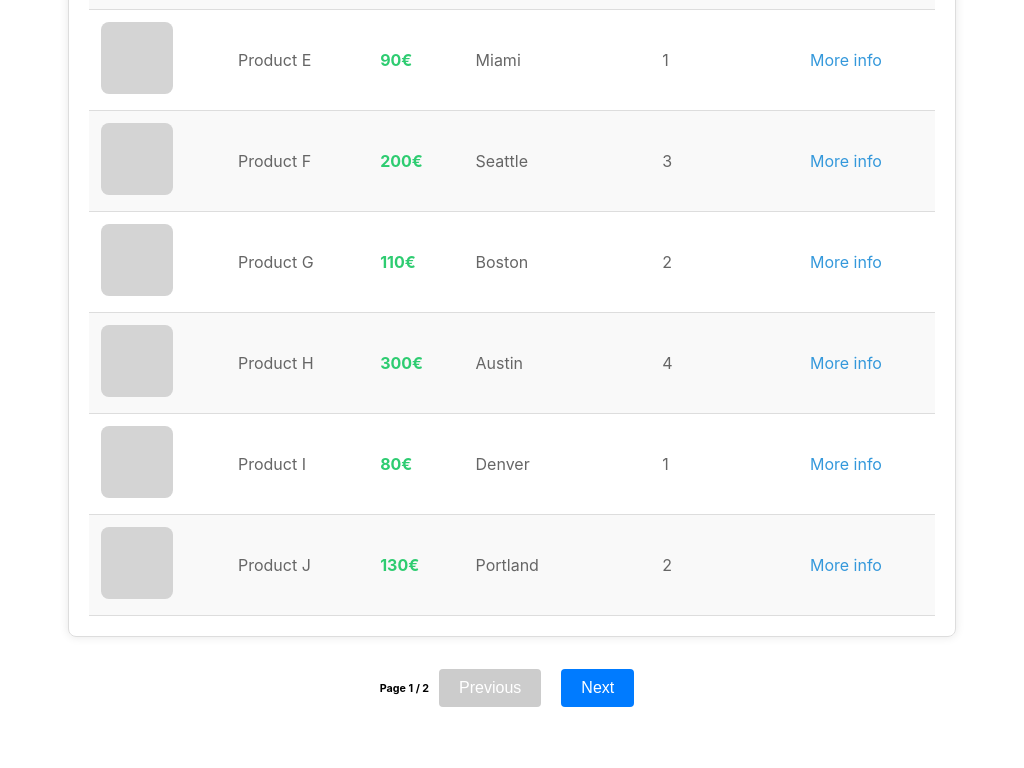
it: ProductsList component › allows pagination correctly
(page scrolled)
Click the button "Next" at coordinates (598, 688), box [561, 670, 634, 708]
(page scrolled)
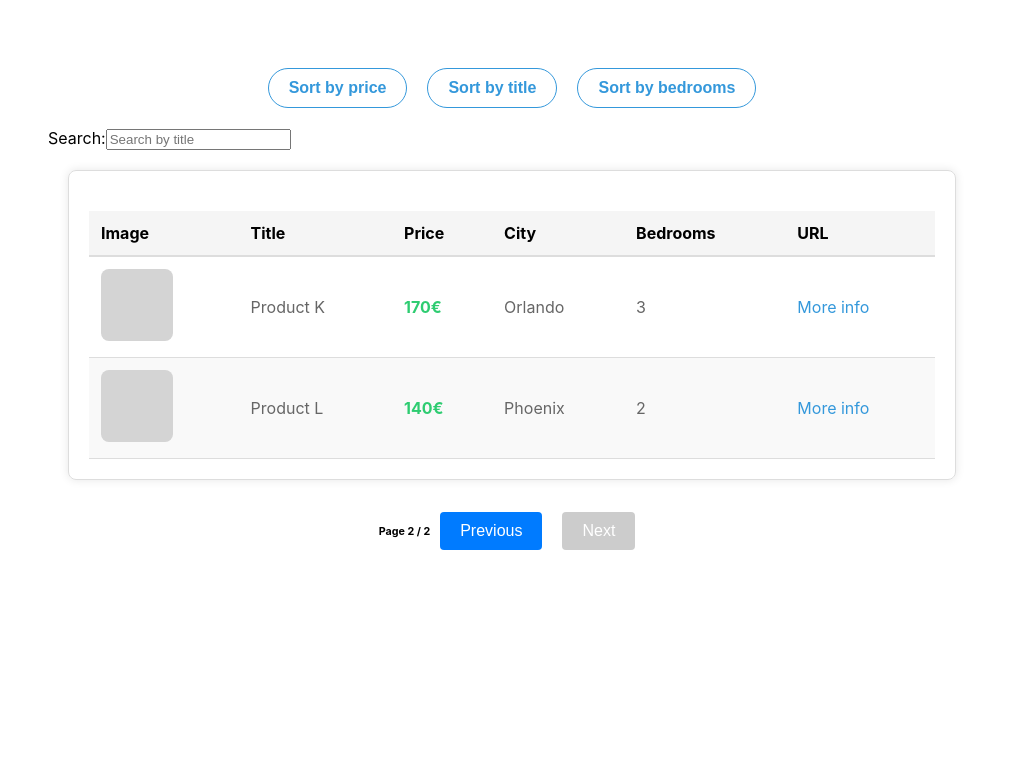
Expected: the number of rows is 3, [89, 211, 935, 256]; [89, 256, 935, 358]; [89, 358, 935, 458]
Expected: the heading "Page 2 / 2" is shown, [379, 525, 430, 538]
Note: Click previous page button
Click the button "Previous" at coordinates (491, 532), box [440, 512, 542, 550]
(page scrolled)
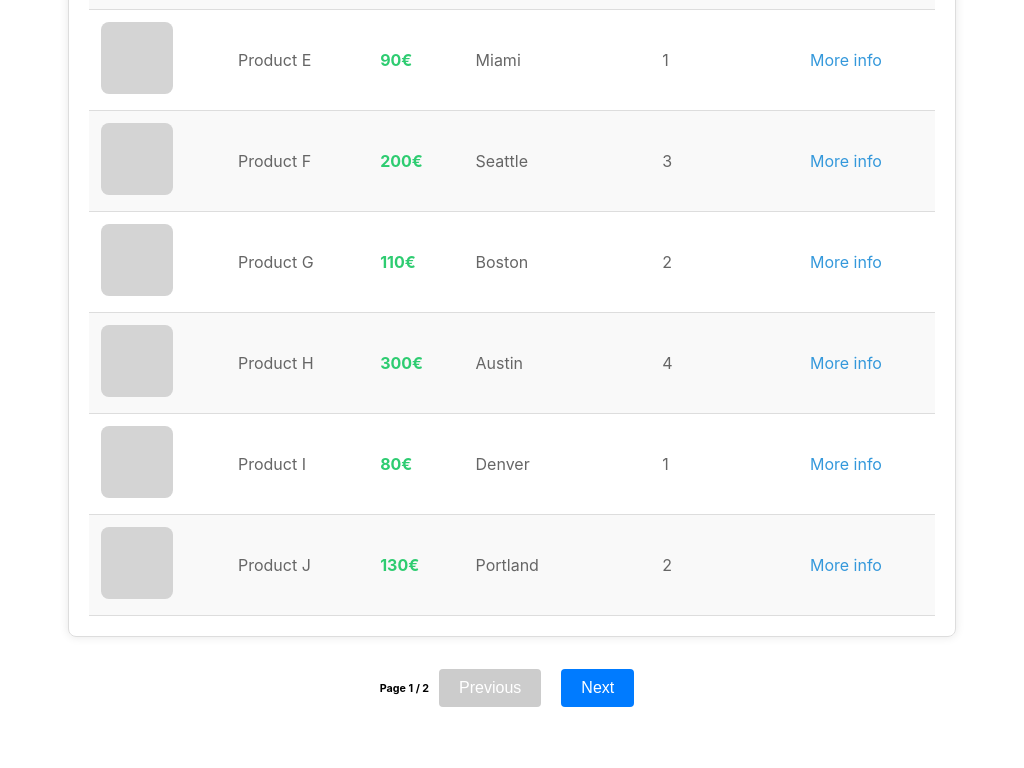
Expected: the heading "Page 1 / 2" is shown, [380, 682, 429, 695]
